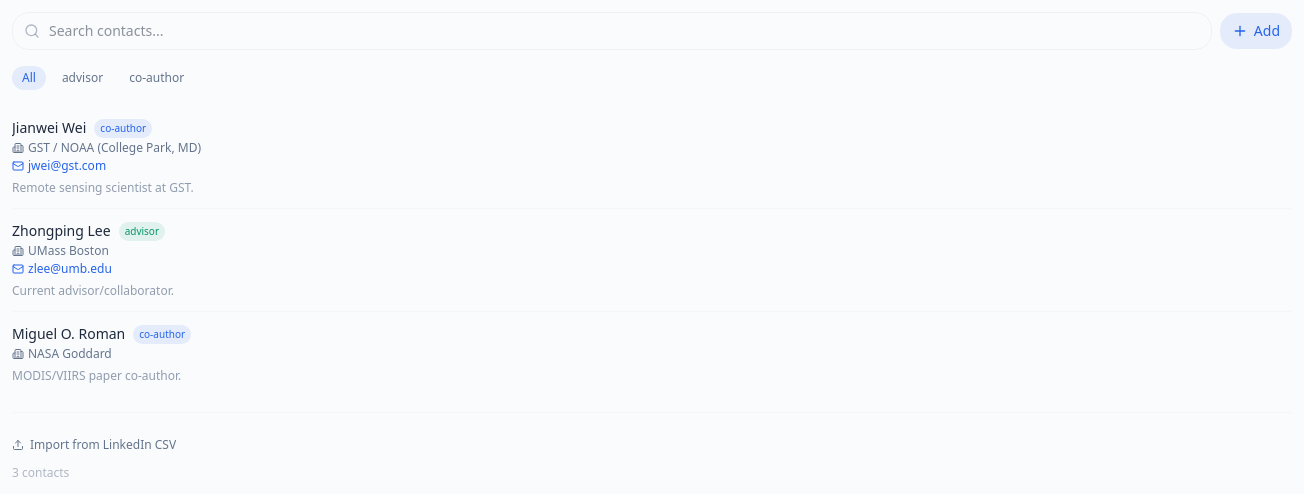
Test: Search and filter › search by name filters contacts
The width and height of the screenshot is (1304, 494).
Type "Wei" into the field with test id "search-contacts" at [612, 31], box [12,12,1212,50]
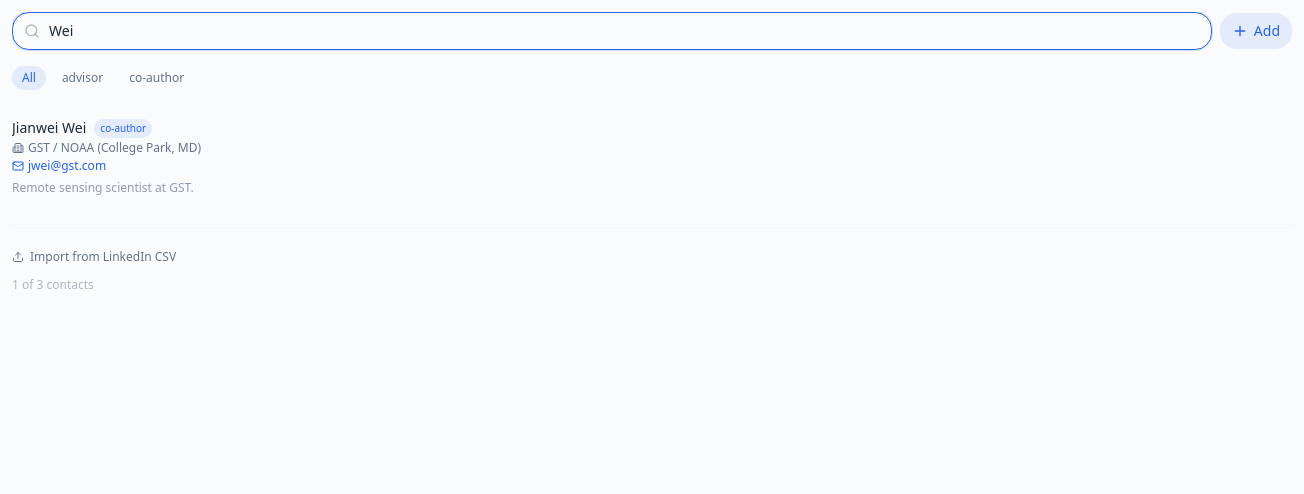
Expected: the element with test id "contact-c-wei" is shown, [12,118,201,196]
Now the element with test id "contact-c-lee" is gone
Now the element with test id "contact-c-roman" is gone
